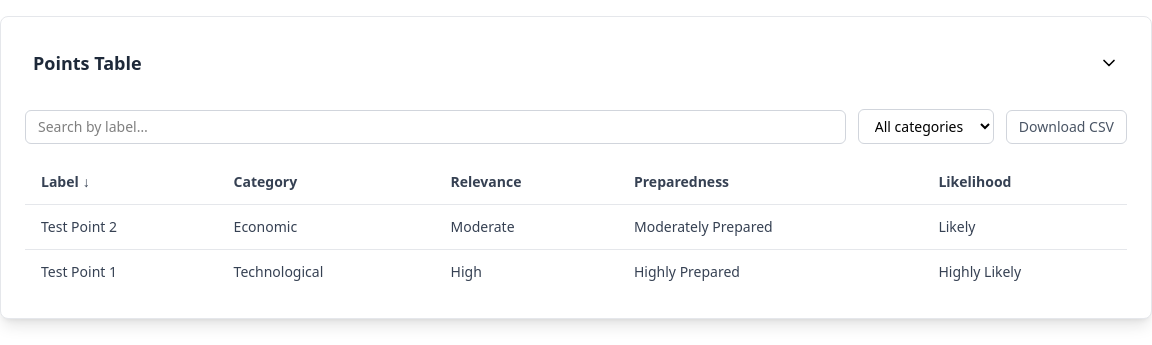
Test: PointsTable › Filtering › should show a Clear button when filters are active and reset on click
Type "Point 1" into the search field named "Search points by label" at (435, 126), box [25,110,846,144]
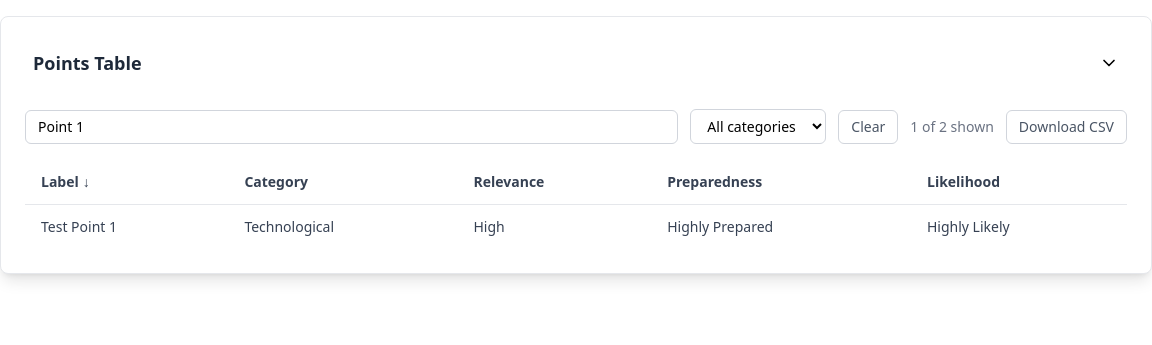
Result: the button with aria-label "Clear filters" is shown
Click the button with aria-label "Clear filters" at (868, 126), box [838,110,898,144]
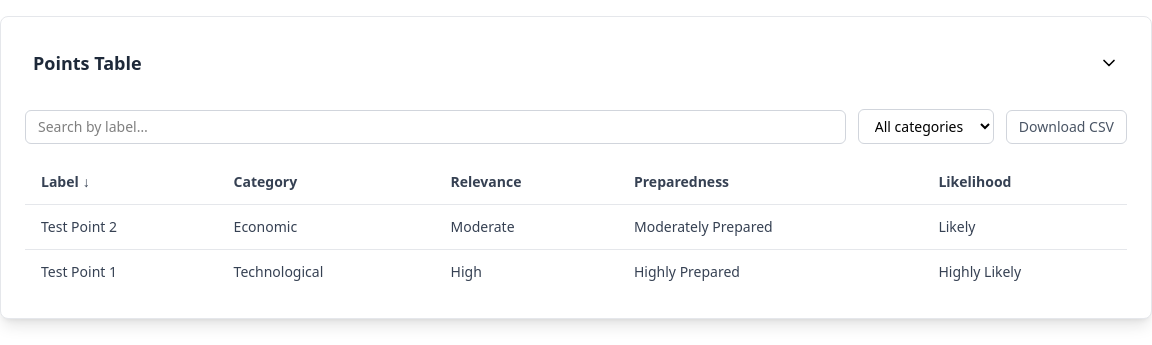
Expected: the text "Test Point 1" is shown, [41,262,117,282]
Result: the search field named "Search points by label" is empty at [25,110,846,144]
Result: the text "Test Point 2" is shown at [41,217,117,237]
